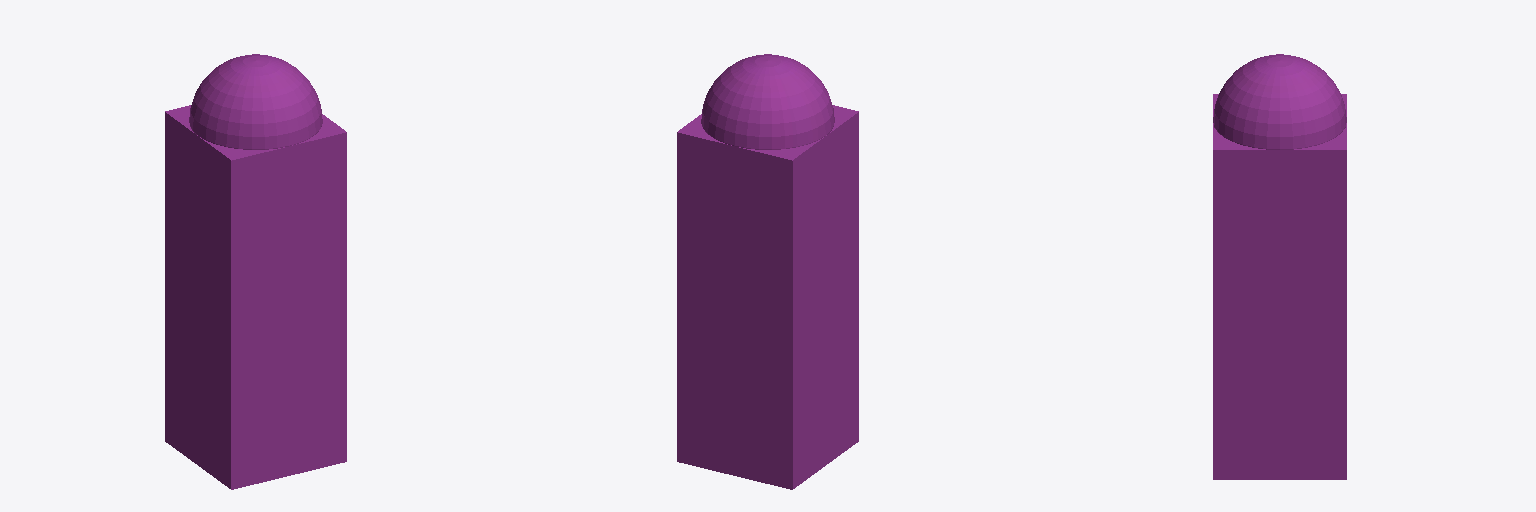
3 renders of one model, left to right at view 1: azimuth 30°, elevation 25°; view 2: azimuth 150°, elevation 25°; view 3: azimuth 270°, elevation 25°, orthographic.
Parts seen in each view (by area): view 1: 立方體.007, 球體.001; view 2: 立方體.007, 球體.001; view 3: 立方體.007, 球體.001.
Part boxes in pixels (left/top/right/bottom): 立方體.007: left=165, top=105, right=346, bottom=489; 球體.001: left=189, top=54, right=322, bottom=149; 立方體.007: left=677, top=105, right=858, bottom=489; 球體.001: left=701, top=54, right=834, bottom=149; 立方體.007: left=1213, top=94, right=1346, bottom=479; 球體.001: left=1213, top=54, right=1346, bottom=149.
Size of the model in its own units: 0.5804 by 1.87 by 0.5804.
2 materials, 1 textured.